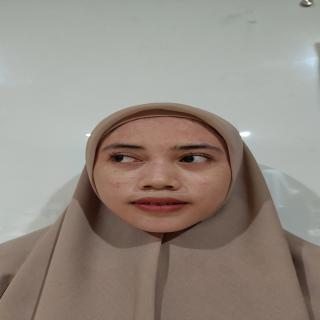Takut: (85, 113, 250, 241)
